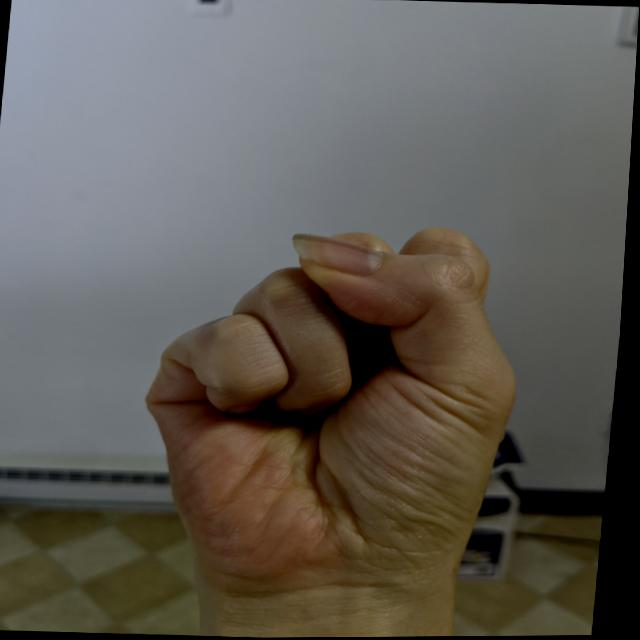S: (122, 211, 548, 618)
